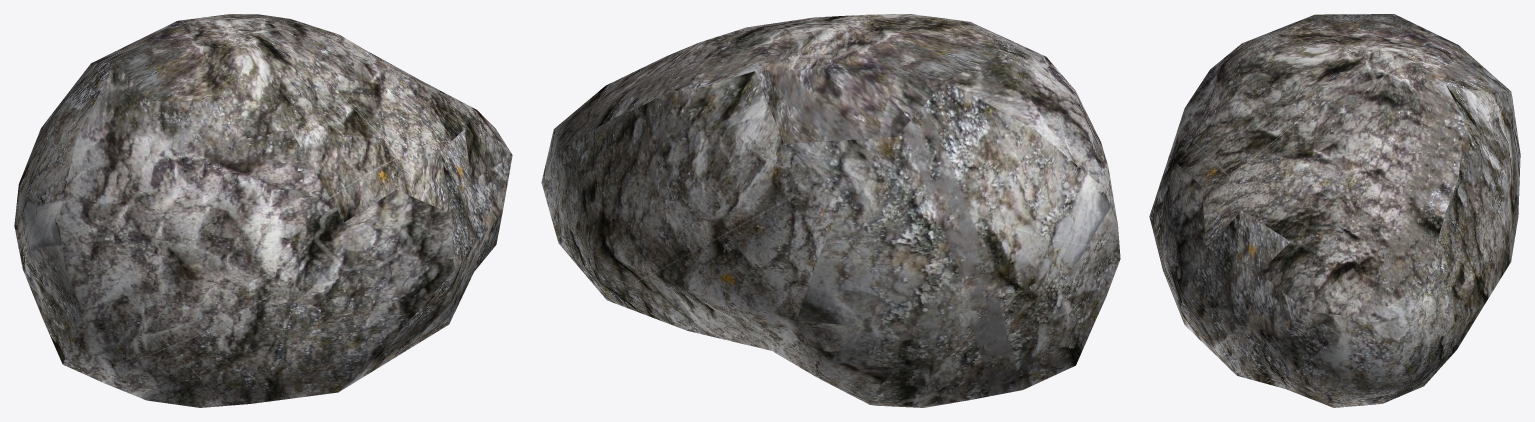
File: Rock001.fbx
3 views of the same model, side by side, from view 1: azimuth 30°, elevation 25°; view 2: azimuth 150°, elevation 25°; view 3: azimuth 270°, elevation 25° (orthographic). The views are drawn at different scales.
Visible parts, largest first — view 1: Cube; view 2: Cube; view 3: Cube.
Part boxes in pixels (box(x1,y1,x2,y2)): Cube: box(14, 14, 512, 407); Cube: box(541, 14, 1120, 407); Cube: box(1149, 14, 1520, 407).
Size of the model in its own units: 275 by 179 by 201.
